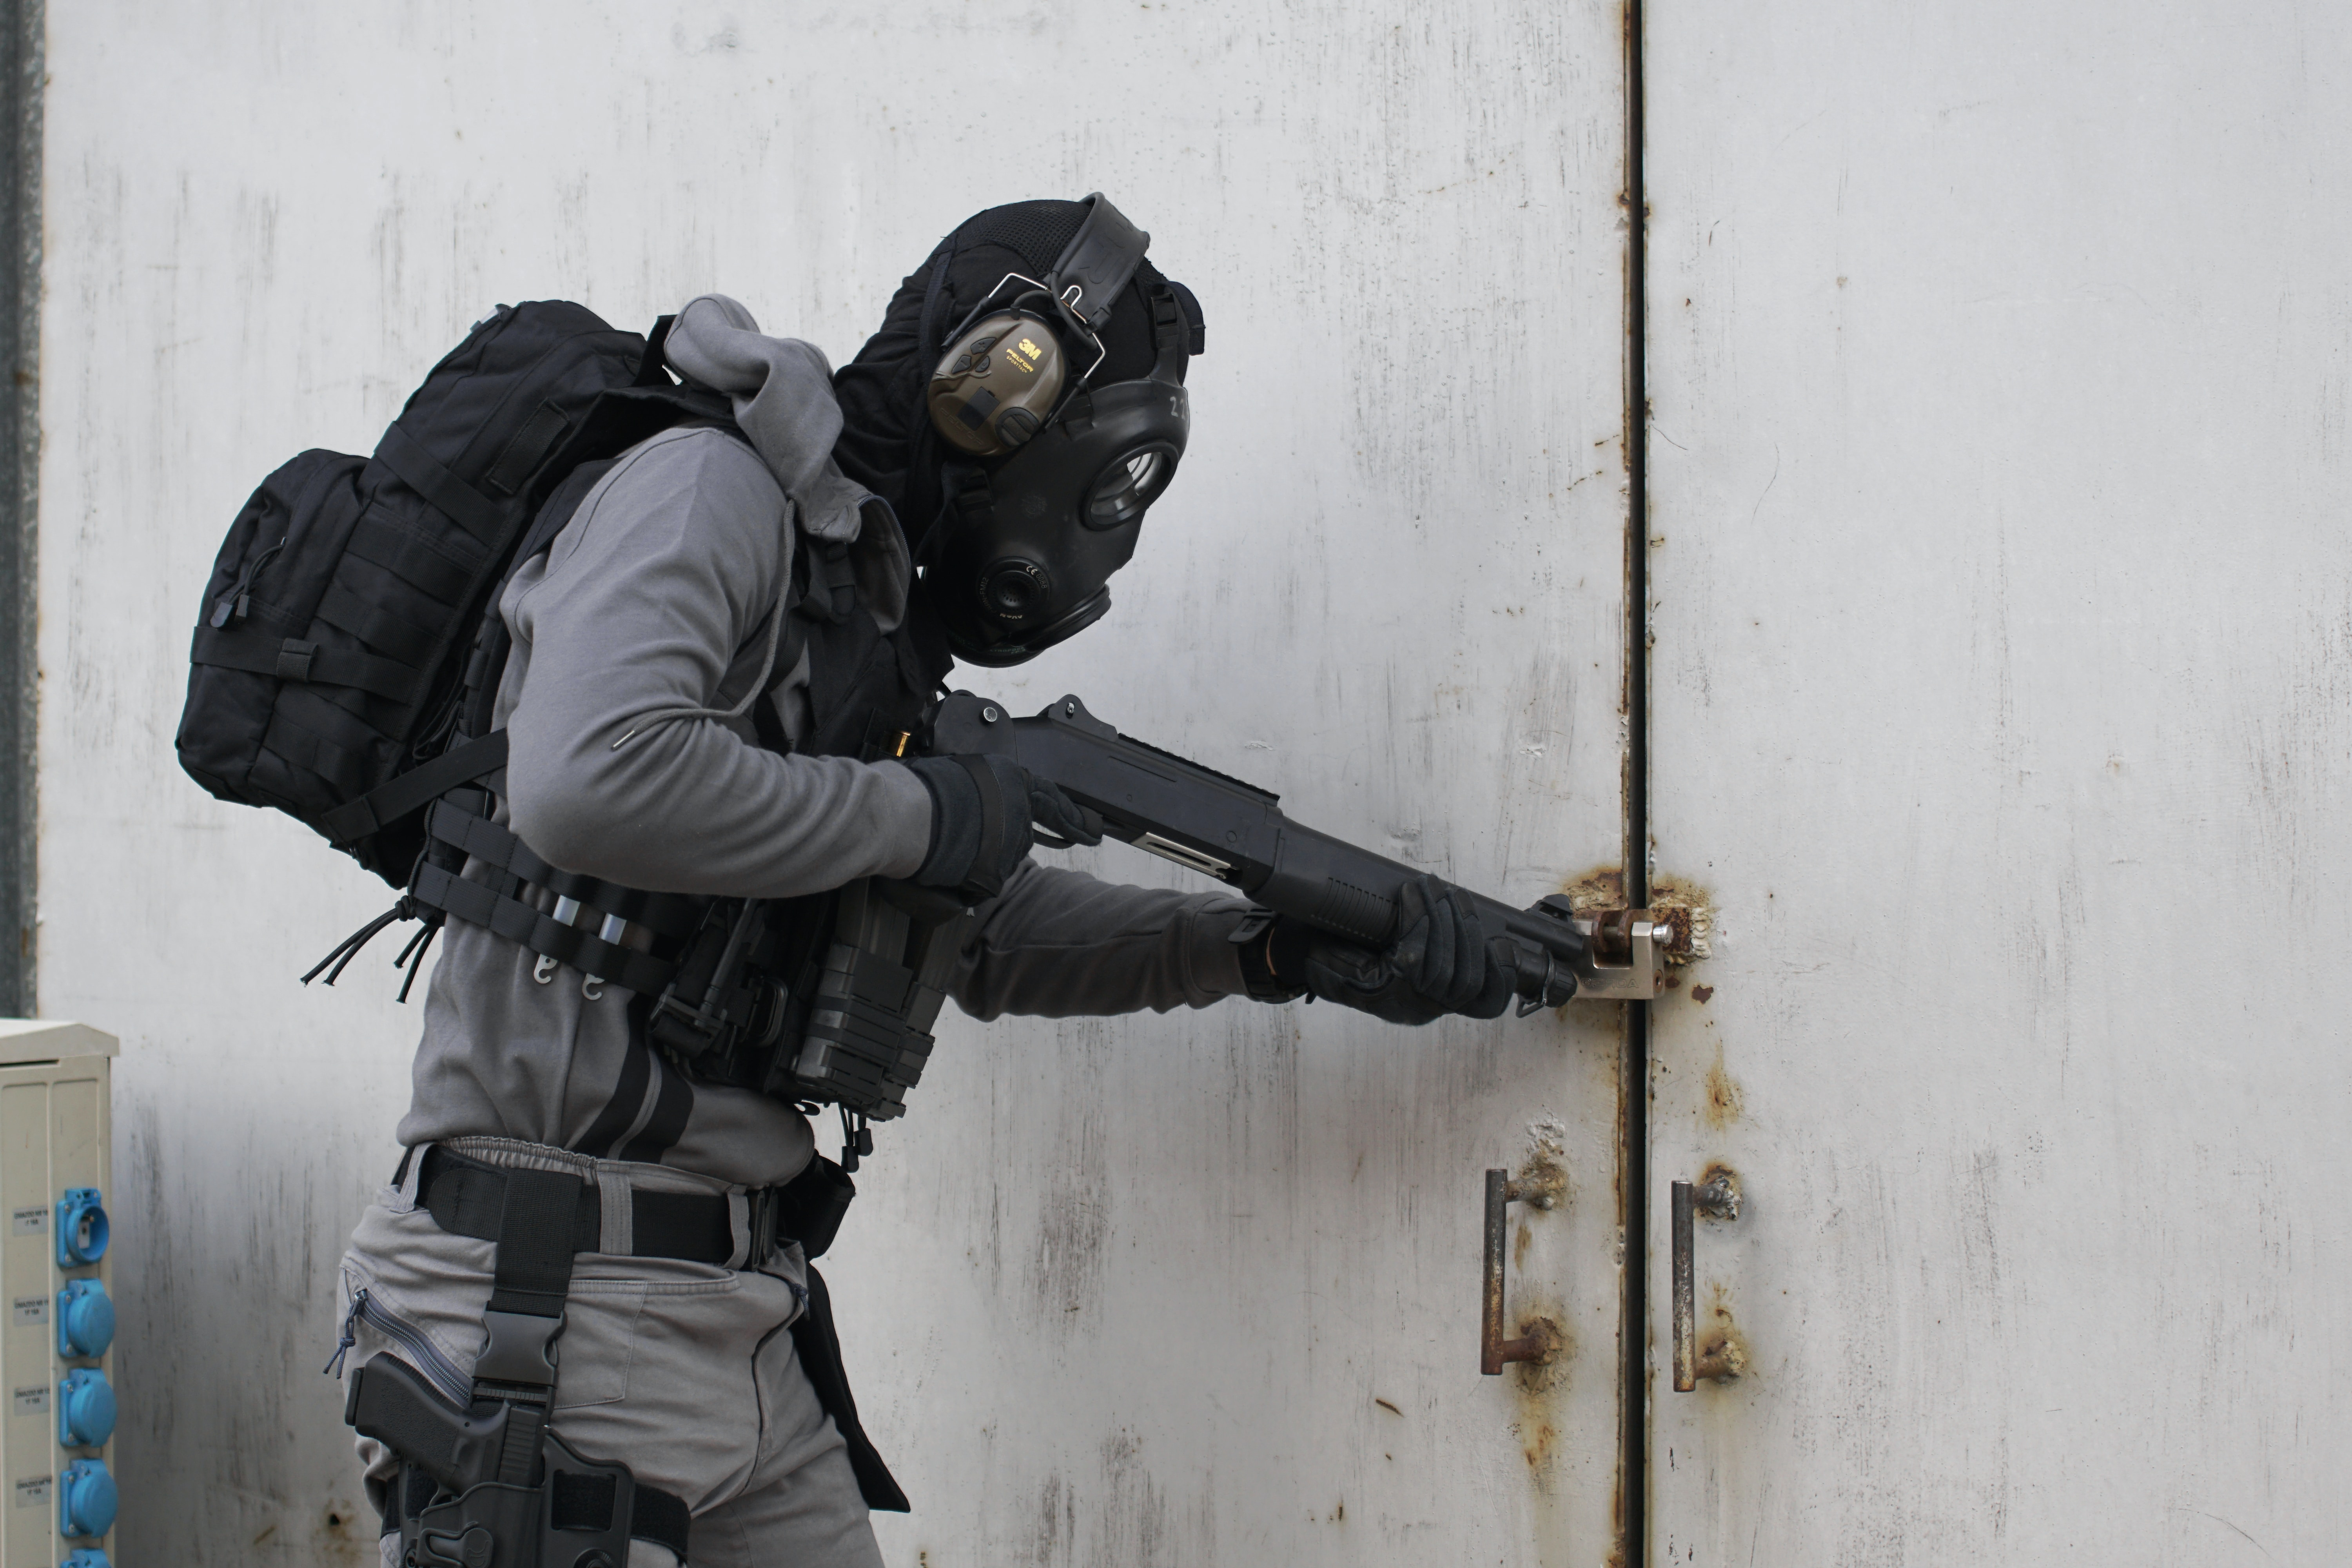gun: (829, 680, 1611, 1130)
person: (347, 180, 1230, 1568)
